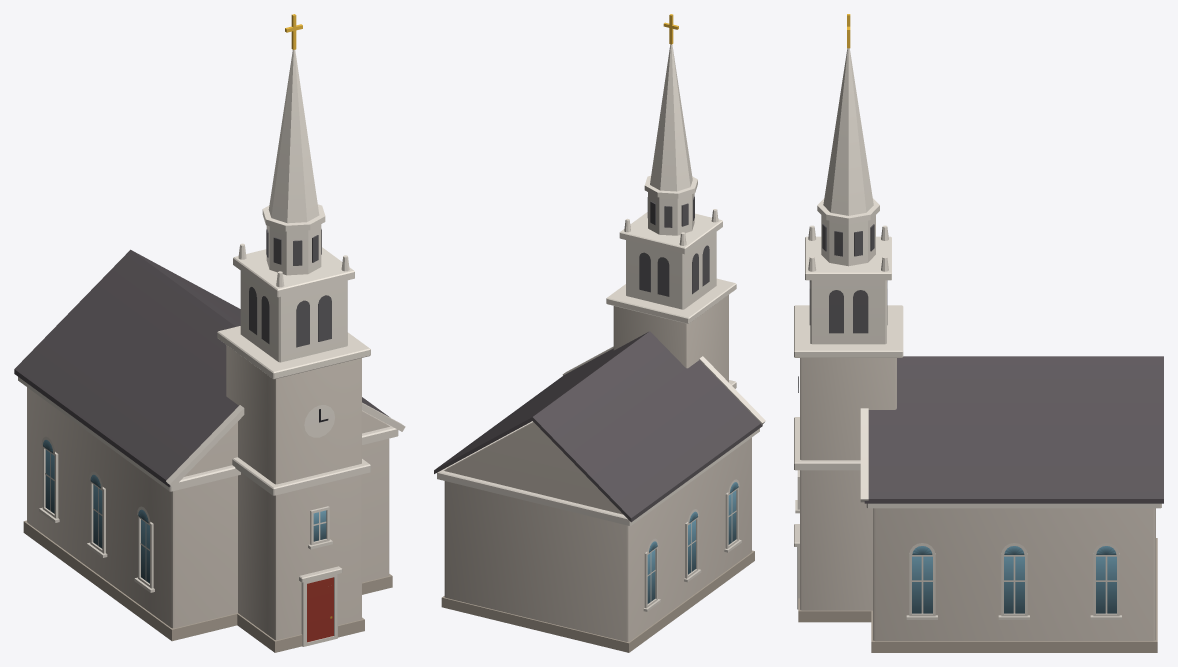
File: hill_chapel.glb
3 renders of one model, left to right at view 1: azimuth 30°, elevation 25°; view 2: azimuth 150°, elevation 25°; view 3: azimuth 270°, elevation 25°, orthographic. The views are drawn at different scales.
Visible parts, largest first — view 1: hill_chapel; view 2: hill_chapel; view 3: hill_chapel.
Part boxes in pixels (<box>): hill_chapel: <box>14,14,405,652</box>; hill_chapel: <box>434,14,765,652</box>; hill_chapel: <box>794,14,1163,652</box>.
Size of the model in its own units: 12.98 by 32.02 by 18.3.
Materials: 1 (1 with a texture image).
